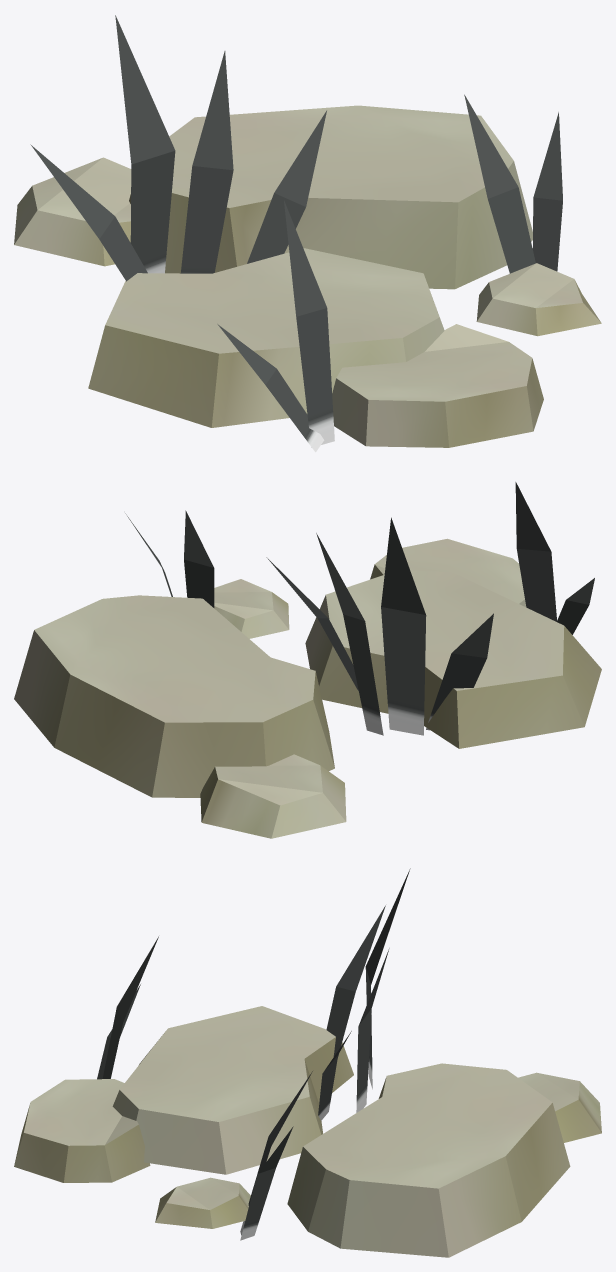
Rendered from Rocks_Decal_4.fbx.
The picture shows the model from 3 angles, top to bottom: view 1: azimuth 30°, elevation 25°; view 2: azimuth 150°, elevation 25°; view 3: azimuth 270°, elevation 25°; orthographic projection. The views are drawn at different scales.
Visible parts, largest first — view 1: Rocks_Decal_4; view 2: Rocks_Decal_4; view 3: Rocks_Decal_4.
Part boxes in pixels (x1,y1,x2,y2): Rocks_Decal_4: (14, 15, 601, 452); Rocks_Decal_4: (14, 482, 601, 838); Rocks_Decal_4: (14, 868, 601, 1257).
Size of the model in its own units: 0.6529 by 0.358 by 0.7822.
